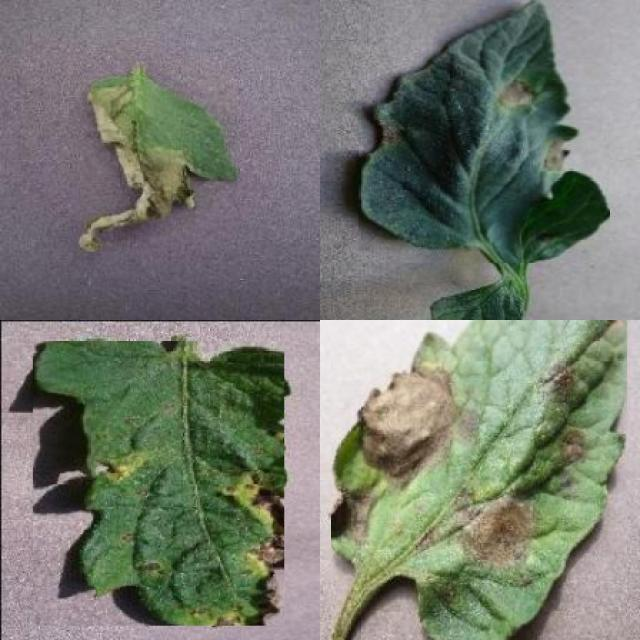Early Blight: (359, 0, 610, 263)
Late Blight: (330, 320, 627, 640), (77, 75, 237, 252)
Septoria: (34, 340, 285, 626)
